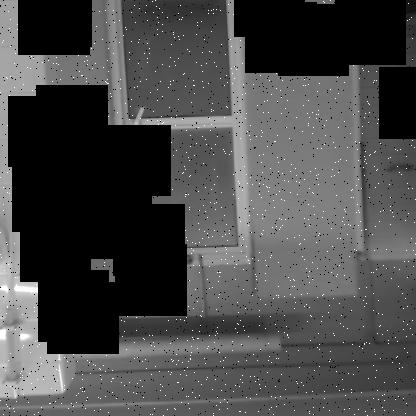Porte: (103, 0, 253, 260)
